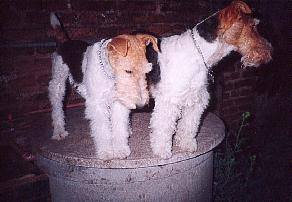wire-haired_fox_terrier: (144, 3, 277, 162), (41, 0, 155, 161)
